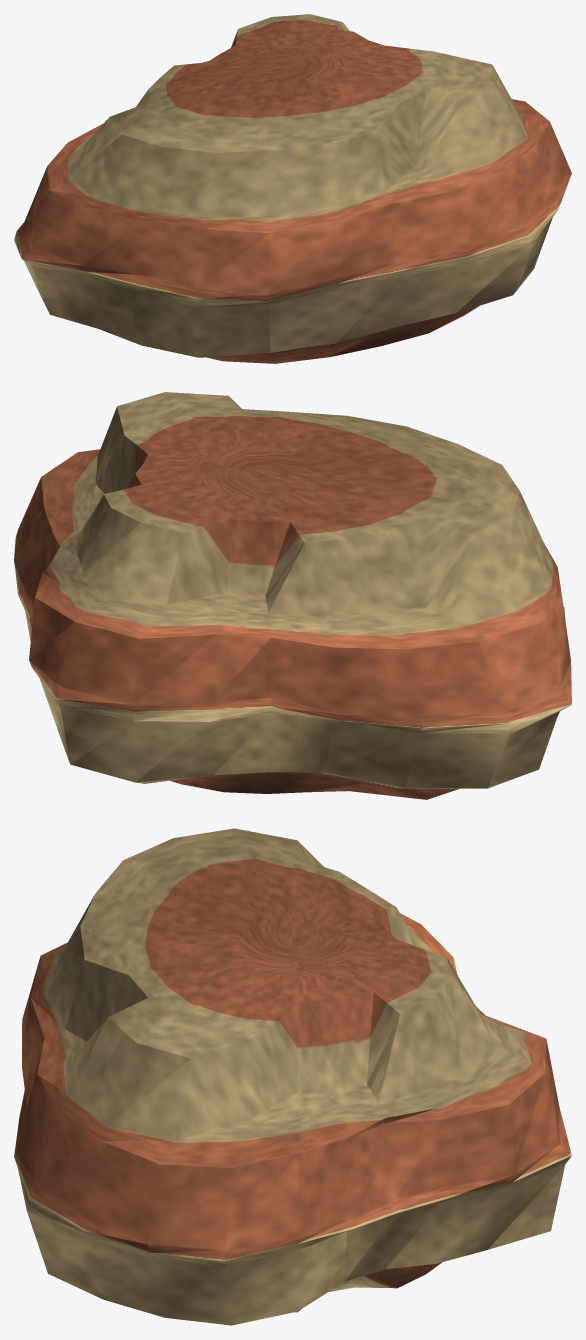
File: SM_Desert_Rock_A.glb
The picture shows the model from 3 angles, top to bottom: view 1: azimuth 30°, elevation 25°; view 2: azimuth 150°, elevation 25°; view 3: azimuth 270°, elevation 25°; orthographic projection. The views are drawn at different scales.
Parts seen in each view (by area): view 1: SM_Desert_Rock_A; view 2: SM_Desert_Rock_A; view 3: SM_Desert_Rock_A.
Boxes of the visible parts, x1,y1,x2,y2 form: SM_Desert_Rock_A: (14, 14, 571, 363); SM_Desert_Rock_A: (14, 392, 571, 799); SM_Desert_Rock_A: (14, 828, 571, 1325).
Size of the model in its own units: 0.8141 by 0.3485 by 0.6013.
1 material, 1 textured.
